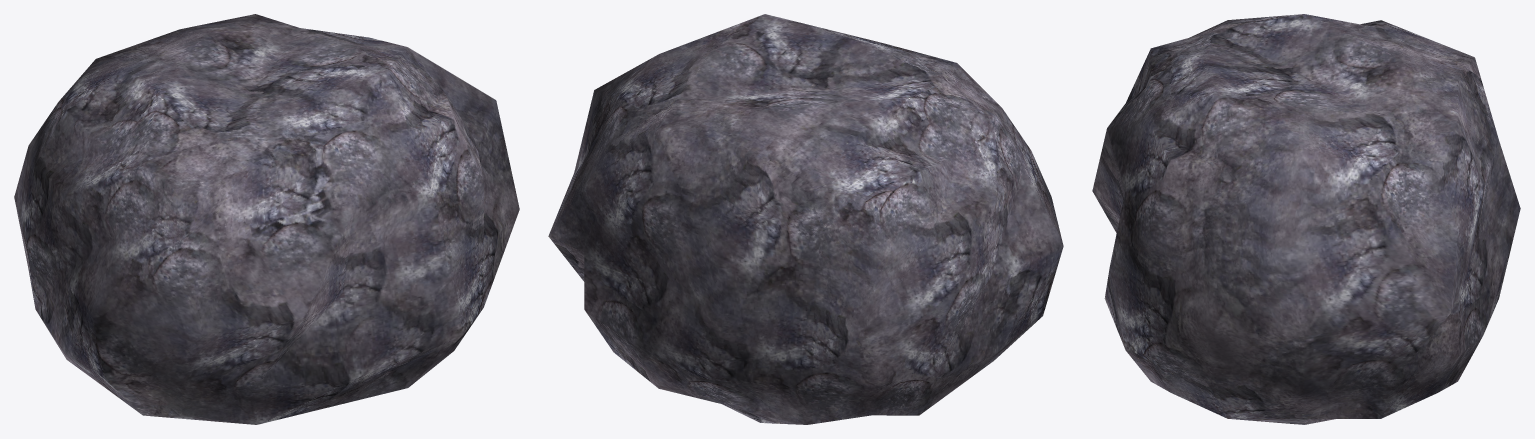
File: Meteor1.fbx
3 renders of one model, left to right at view 1: azimuth 30°, elevation 25°; view 2: azimuth 150°, elevation 25°; view 3: azimuth 270°, elevation 25°, orthographic. The views are drawn at different scales.
Parts seen in each view (by area): view 1: pCube1; view 2: pCube1; view 3: pCube1.
Boxes of the visible parts, box(x1,y1,x2,y2) form: pCube1: box(14, 14, 519, 424); pCube1: box(548, 14, 1063, 424); pCube1: box(1092, 14, 1520, 424).
Size of the model in its own units: 179 by 124 by 147.
1 material, 1 textured.
